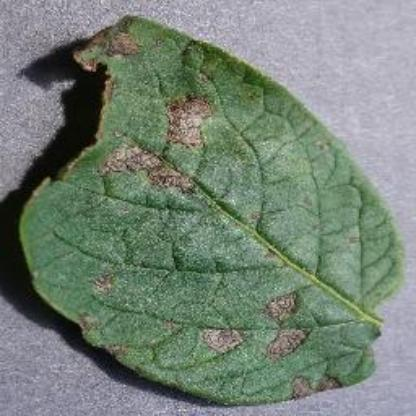Early-Blight: (12, 7, 416, 409)
